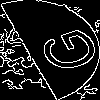G: (25, 25, 100, 79)
